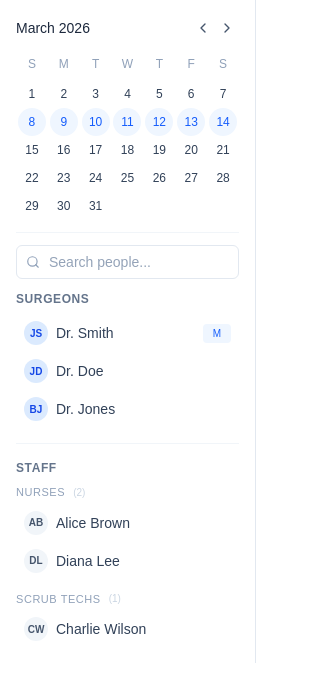
Test case: RoomScheduleSidebar › search filtering › shows empty message when no surgeons match search
This screenshot has width=320, height=680.
Type "zzzzzzz" into the field with placeholder "Search people..." at (128, 262), box [16, 245, 239, 279]
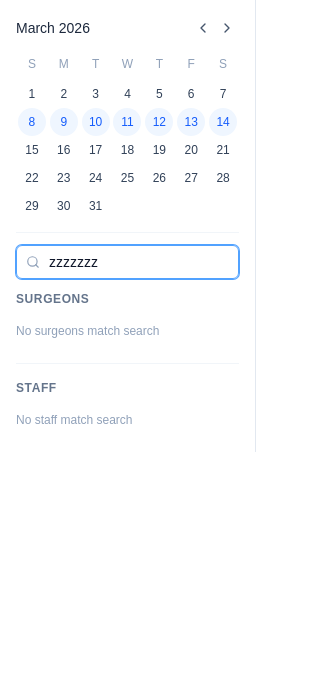
Now the text "No surgeons match search" is shown, box [16, 324, 159, 338]
